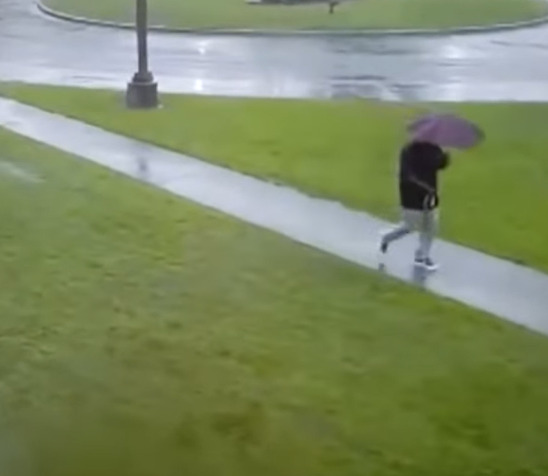person: (378, 115, 449, 269)
